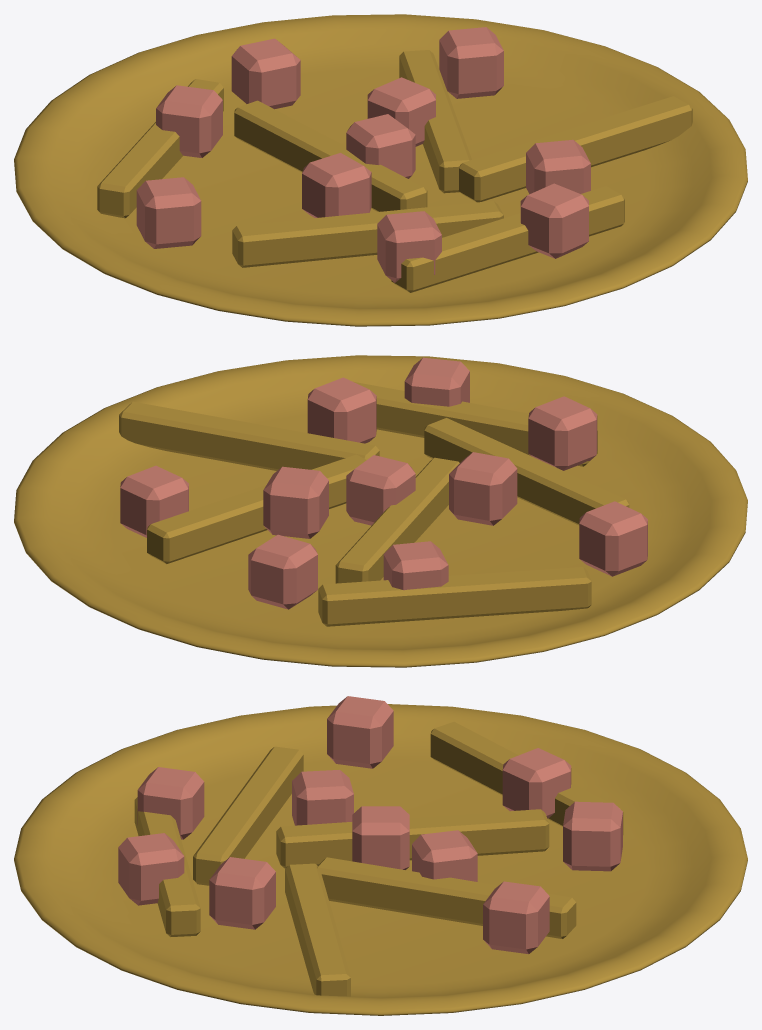
The model's file is unity things 1.fbx.
3 renders of one model, top to bottom at view 1: azimuth 30°, elevation 25°; view 2: azimuth 150°, elevation 25°; view 3: azimuth 270°, elevation 25°, orthographic.
Parts seen in each view (by area): view 1: fishnchips; view 2: fishnchips; view 3: fishnchips.
Boxes of the visible parts, x1,y1,x2,y2 form: fishnchips: (14,14,747,326); fishnchips: (14,355,747,667); fishnchips: (14,696,747,1015).
Bounding box in the file's own units: 254 × 28.87 × 254.
